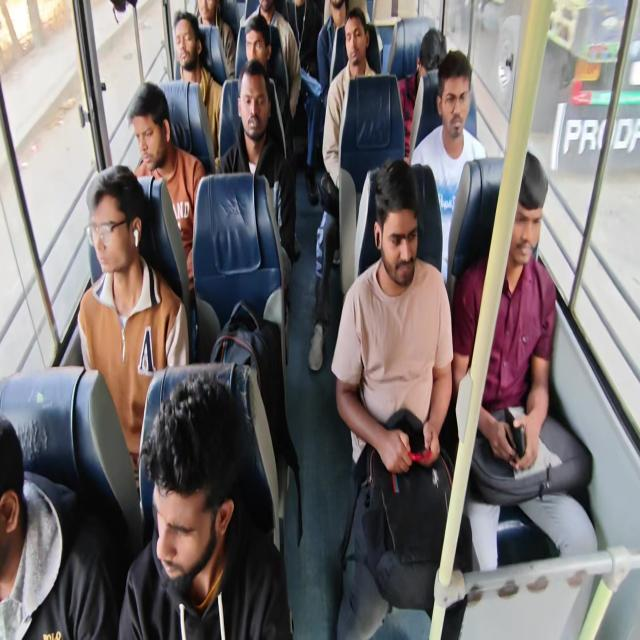person: (125, 390, 248, 640), (484, 166, 558, 292), (374, 182, 442, 312), (66, 194, 154, 292), (0, 404, 40, 578), (124, 82, 166, 214), (269, 6, 326, 101), (333, 12, 382, 87), (177, 10, 218, 98), (432, 50, 478, 121), (226, 64, 264, 143), (238, 25, 278, 94), (412, 28, 456, 86), (256, 0, 285, 38), (328, 0, 355, 25), (197, 0, 214, 30)
